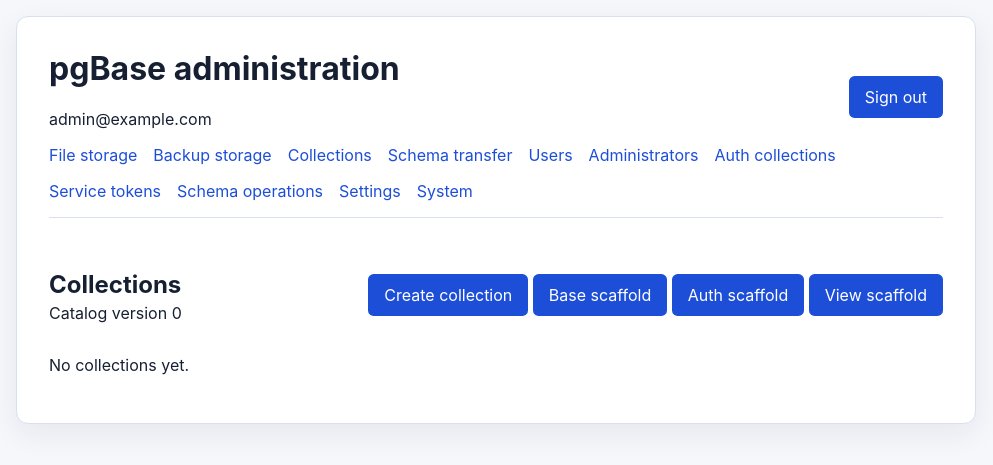
it: administration shell › refuses a second sign-out and keeps the session after a failed one
Expected: the heading "pgBase administration" is shown, [49,49,400,88]
Click the button "Sign out": (896, 97) [849,76,943,118]
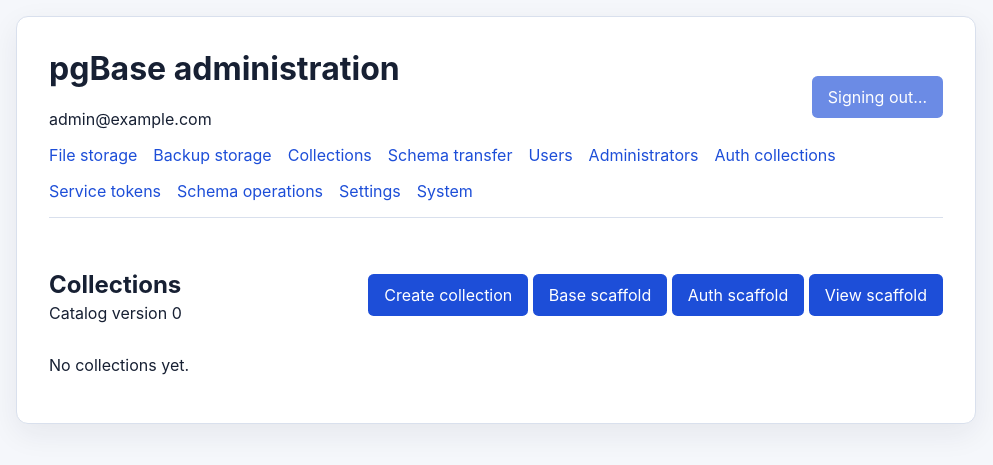
Expected: the button "Signing out…" is disabled
Click the button "Signing out…": (877, 97) [812,76,943,118]
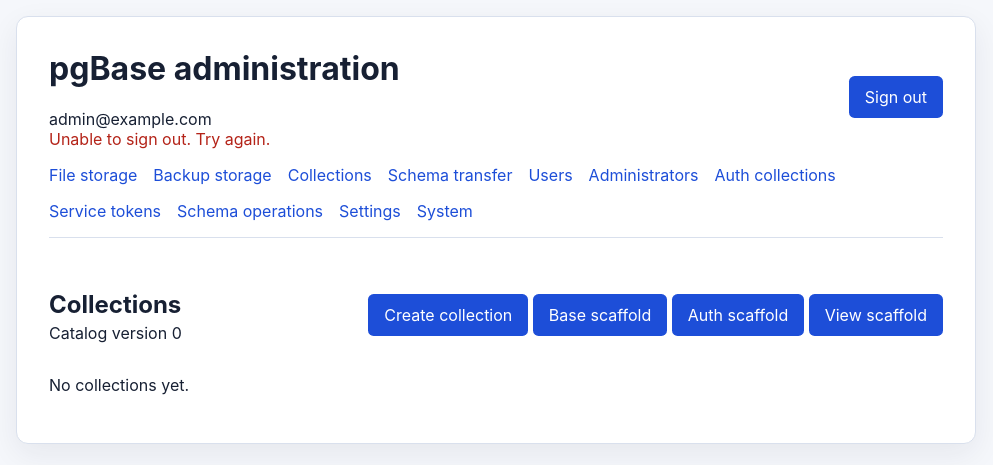
Expected: the heading "pgBase administration" is shown, [49,49,400,88]
Expected: the message reads "Unable to sign out. Try again.", [49,129,270,149]
Expected: the button "Sign out" is enabled, [849,76,943,118]
